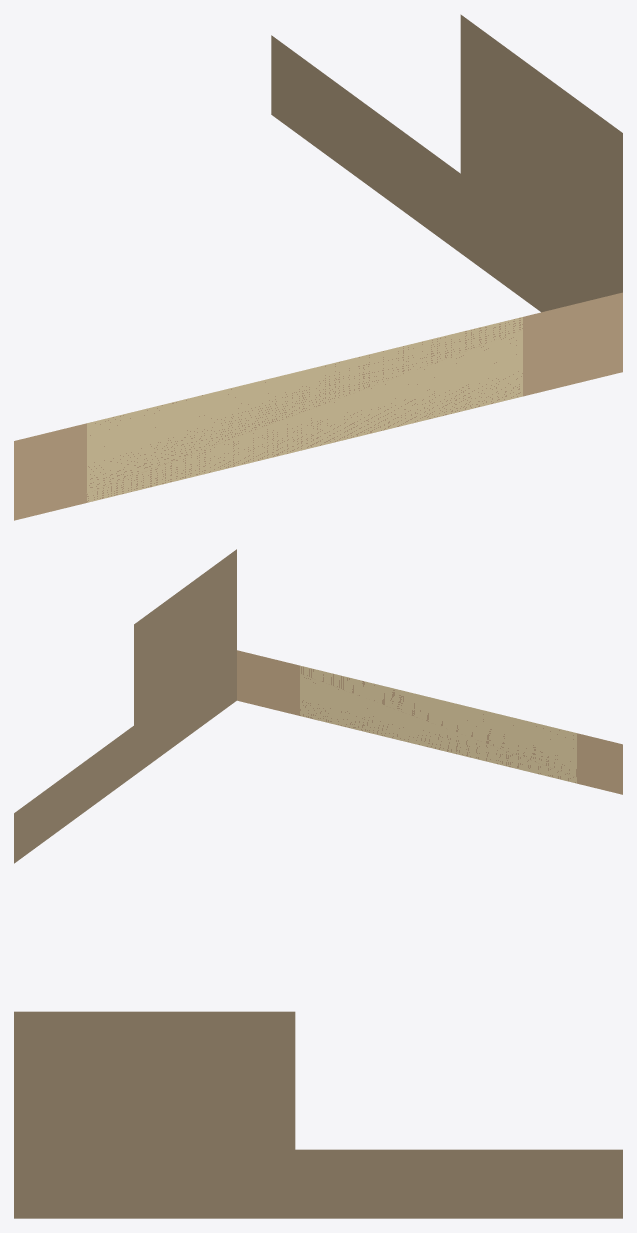
3 renders of one model, top to bottom at view 1: azimuth 30°, elevation 25°; view 2: azimuth 150°, elevation 25°; view 3: azimuth 270°, elevation 25°, orthographic. The views are drawn at different scales.
Size of the model in its own units: 1 by 0.375 by 1.
1 material, 1 textured.
